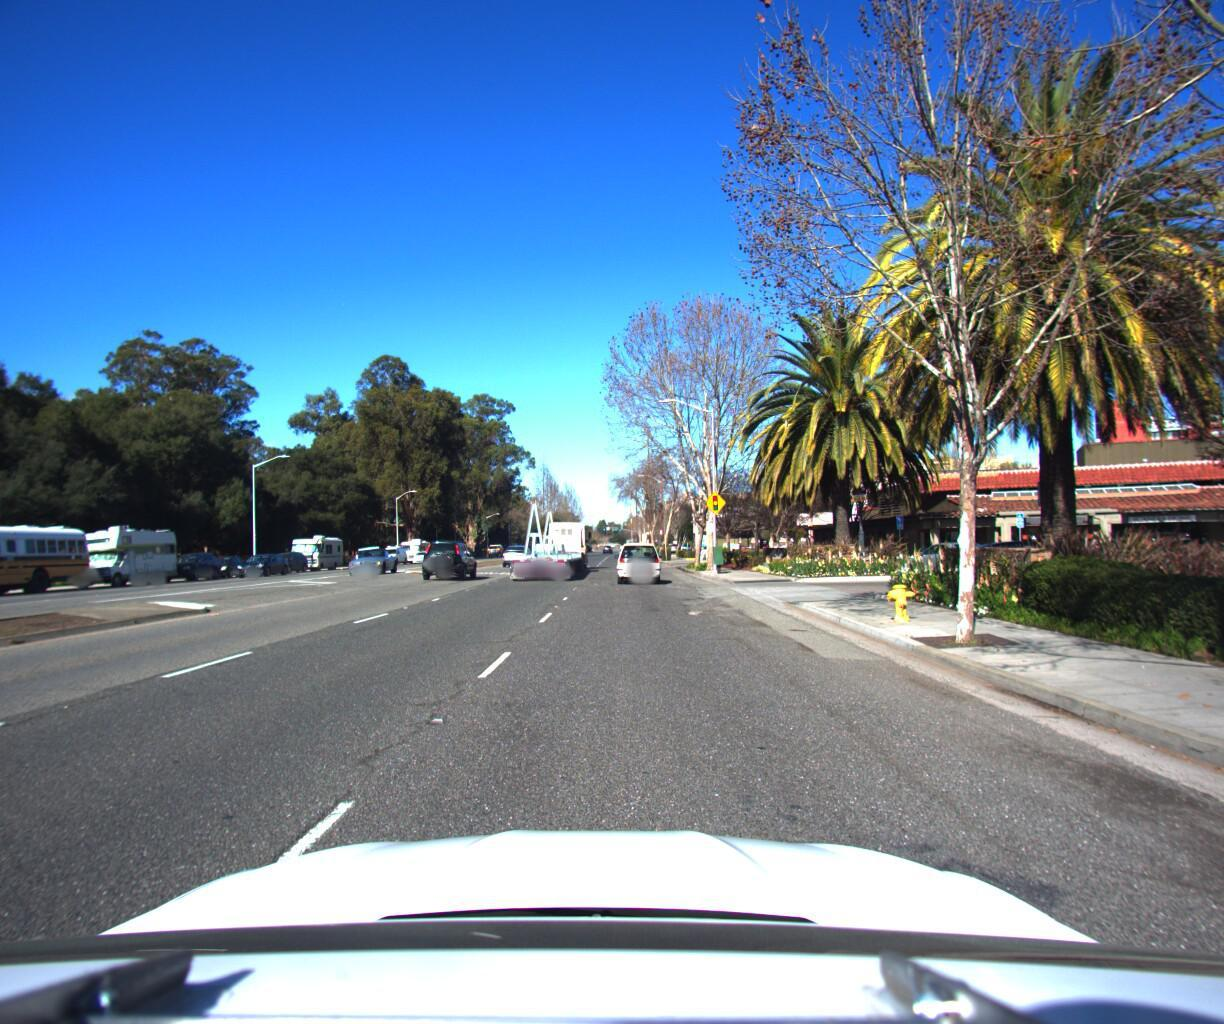bus: (0, 510, 102, 603)
car: (421, 531, 480, 574), (161, 543, 228, 576), (613, 534, 663, 576), (344, 539, 403, 567), (230, 545, 292, 569), (205, 546, 254, 573), (263, 543, 315, 567), (496, 534, 534, 557)
other_vehicle: (64, 513, 189, 583), (289, 524, 351, 564)
truck: (505, 487, 602, 586)
